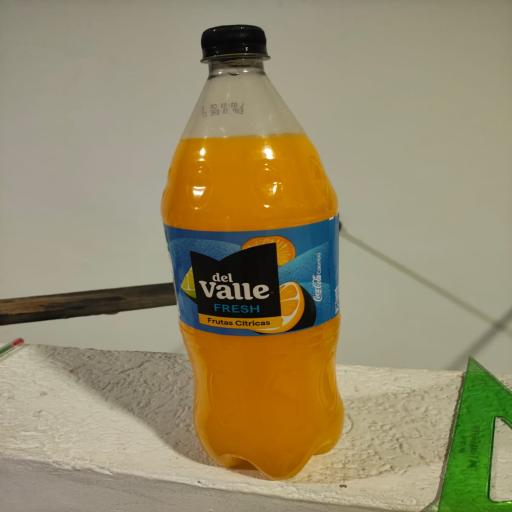Jugo del valle: (148, 16, 370, 506)
